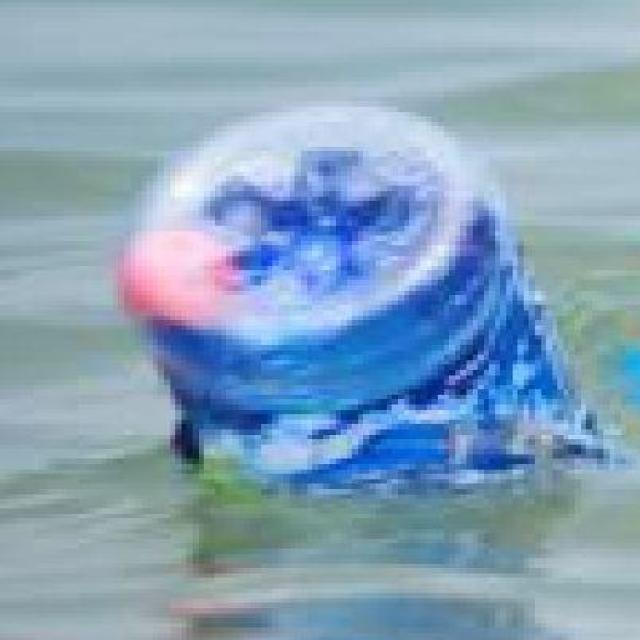-Recyclables - plastic bottle-: (108, 101, 626, 490)
